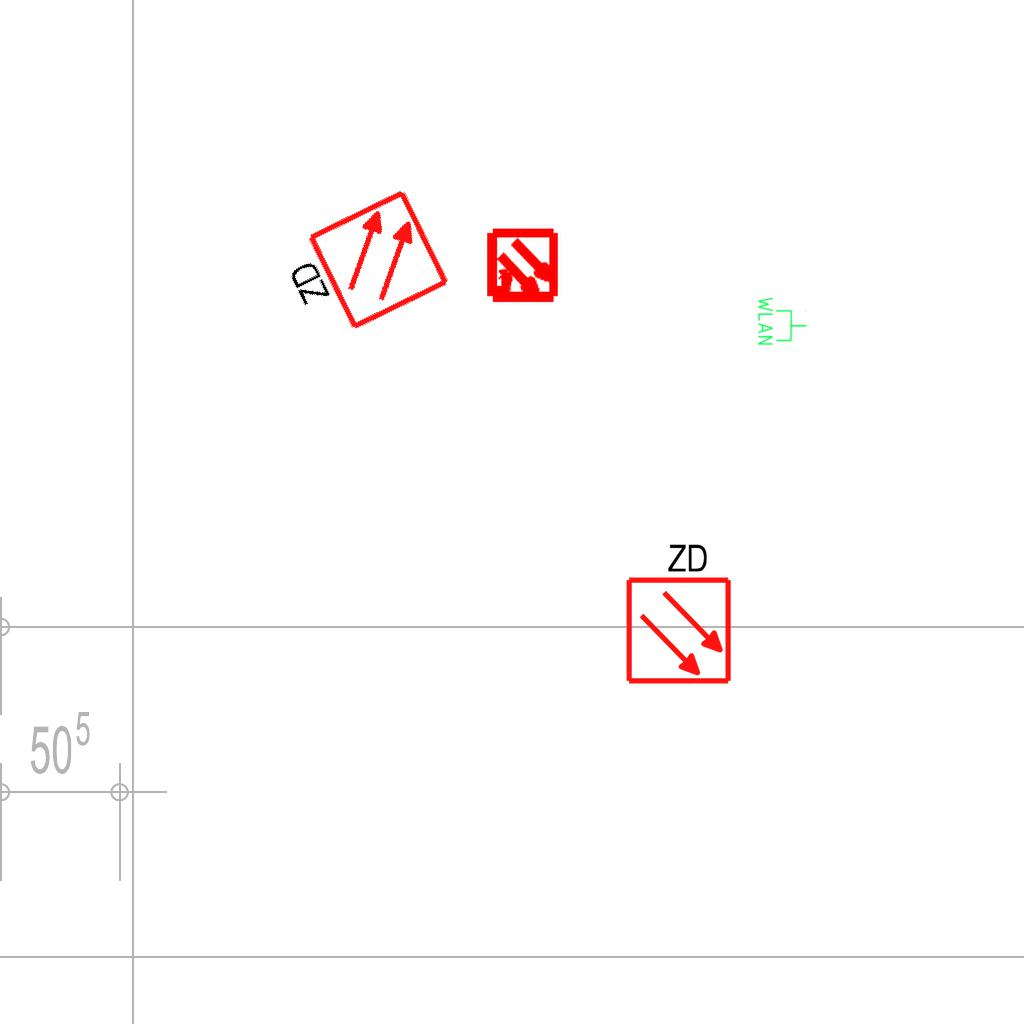OT_Multisensormelder_(Kombination_RMO_WMD): (466, 211, 579, 324)
WLAN: (756, 295, 808, 347)
ZD_Melder_in_Zwischendecke_mit_Revisionsoeffnung_mind_40_x_40_cm: (270, 185, 454, 354), (620, 537, 734, 686)
